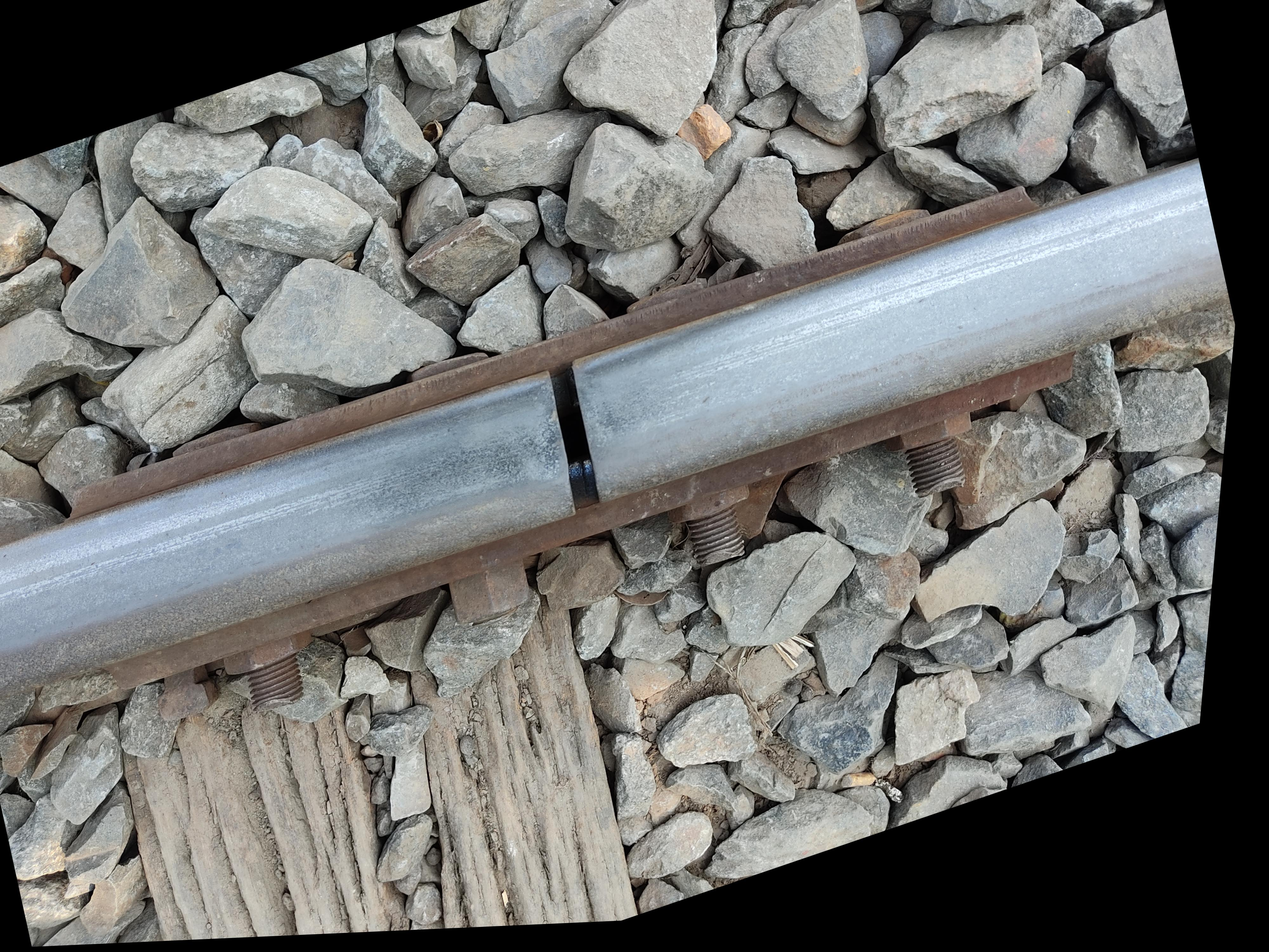person: (297, 480, 628, 801)
